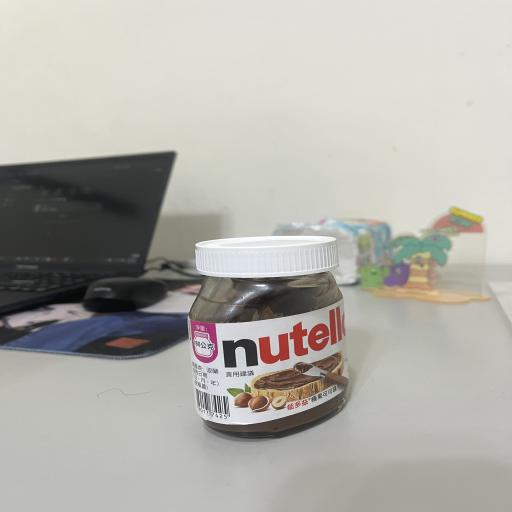chocolate_jar: (188, 235, 349, 437)
